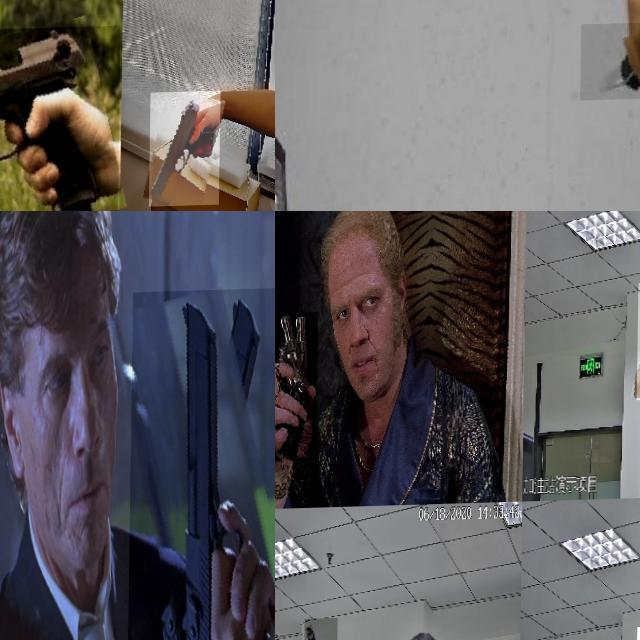-: (580, 23, 640, 102)
gun-knife-thesis - v11 Yolov5 augmented: (127, 291, 275, 640), (0, 27, 122, 211), (150, 94, 222, 210), (275, 312, 318, 462)
